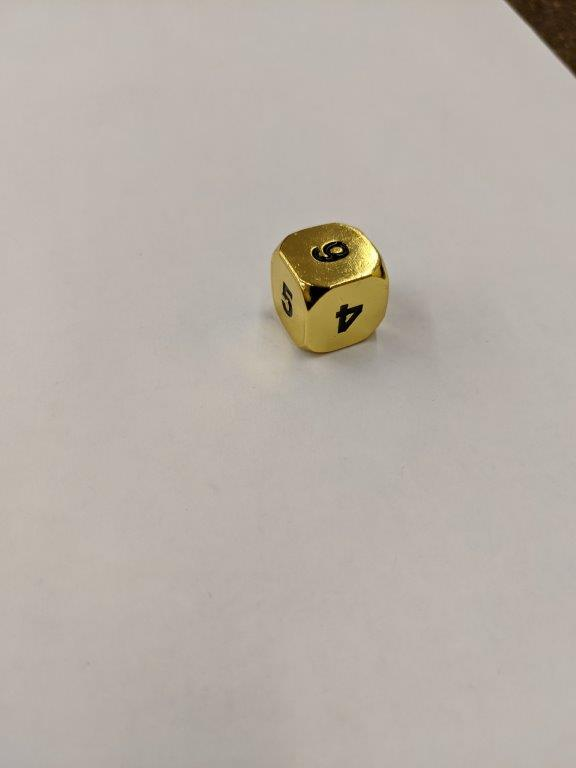d6-6: (271, 220, 389, 358)
